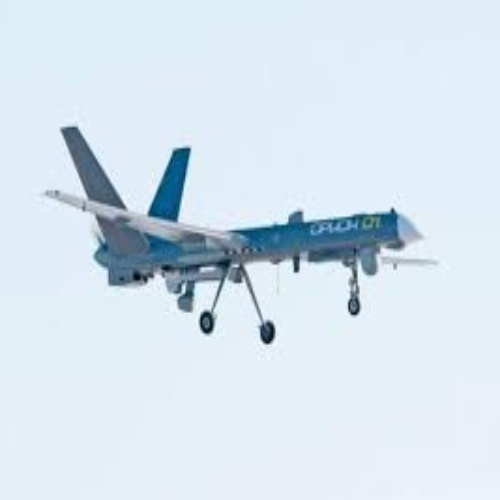uav: (44, 125, 428, 345)
